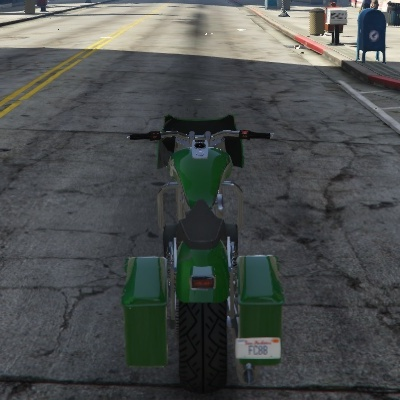off: (186, 261, 221, 299)
